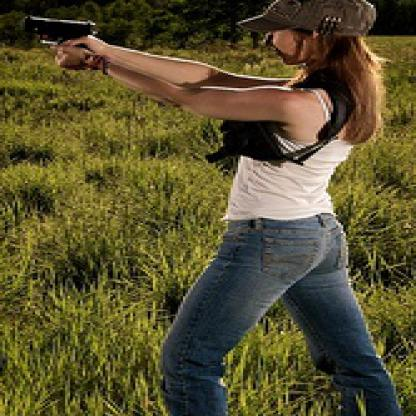gun: (28, 10, 100, 68)
